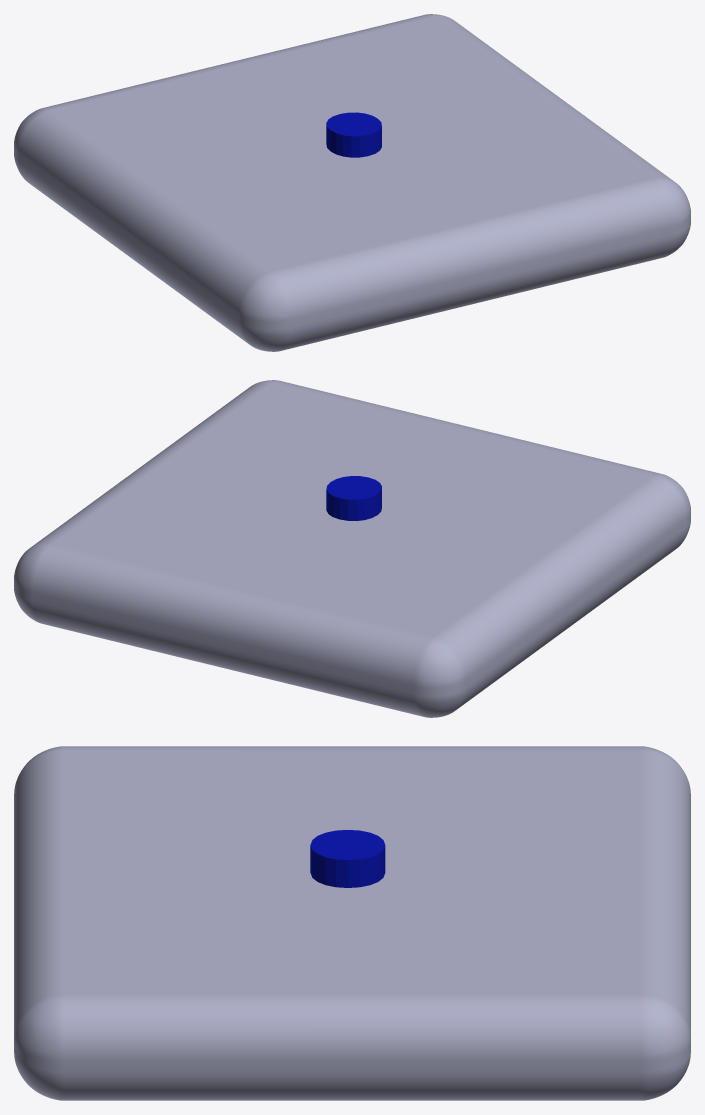
The model's file is buttonDecimal.glb.
The picture shows the model from 3 angles, top to bottom: view 1: azimuth 30°, elevation 25°; view 2: azimuth 150°, elevation 25°; view 3: azimuth 270°, elevation 25°; orthographic projection. The views are drawn at different scales.
Parts seen in each view (by area): view 1: Box, 3D Text - .; view 2: Box, 3D Text - .; view 3: Box, 3D Text - ..
Part boxes in pixels (<box>): Box: <box>14,14,690,351</box>; 3D Text - .: <box>326,112,381,157</box>; Box: <box>14,380,690,717</box>; 3D Text - .: <box>326,476,381,520</box>; Box: <box>14,746,690,1100</box>; 3D Text - .: <box>310,830,385,887</box>.
Bounding box in the file's own units: 0.1 × 0.021 × 0.1.
